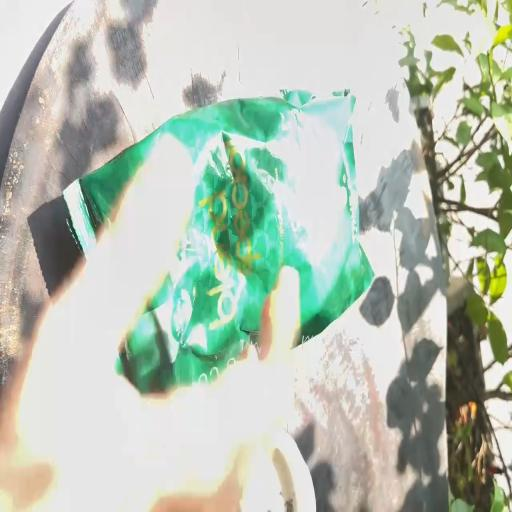cafe_xay: (64, 90, 373, 391)
